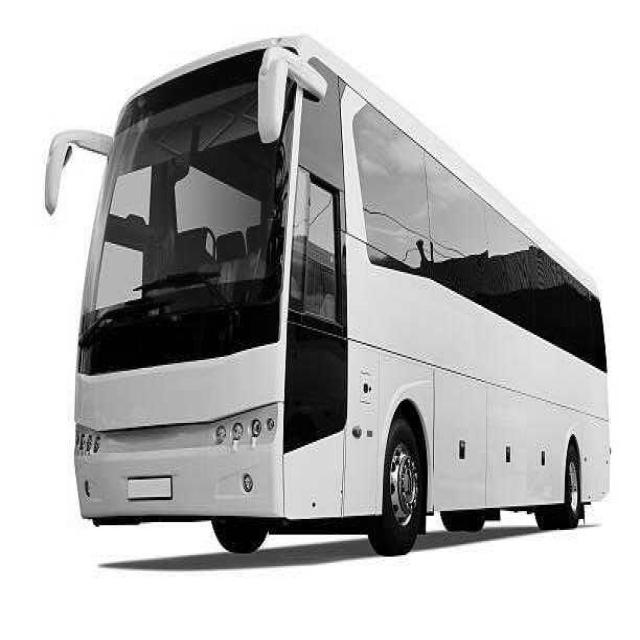Bus: (45, 38, 610, 554)
